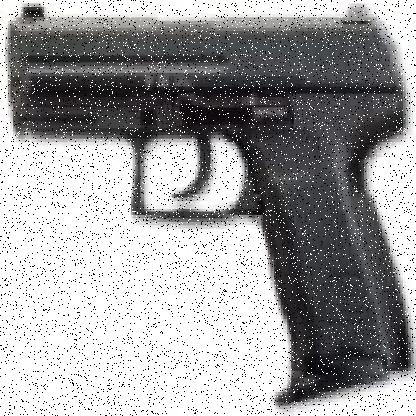pistol: (5, 3, 408, 398)
